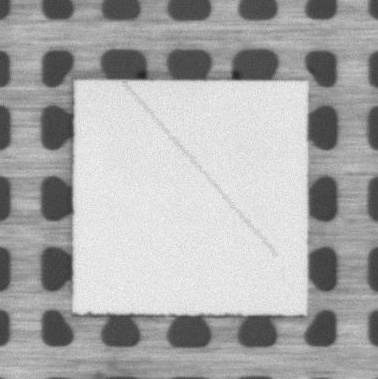DIE_CRACK: (124, 83, 276, 256)
